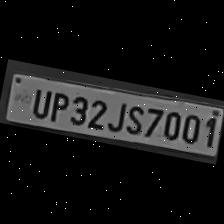0: (158, 107, 184, 142), (178, 110, 203, 145)
1: (198, 113, 220, 150)
2: (84, 94, 109, 130)
3: (65, 90, 91, 127)
7: (139, 103, 163, 139)
J: (104, 97, 128, 133)
P: (46, 88, 71, 124)
S: (122, 100, 146, 136)
U: (27, 84, 52, 119)
